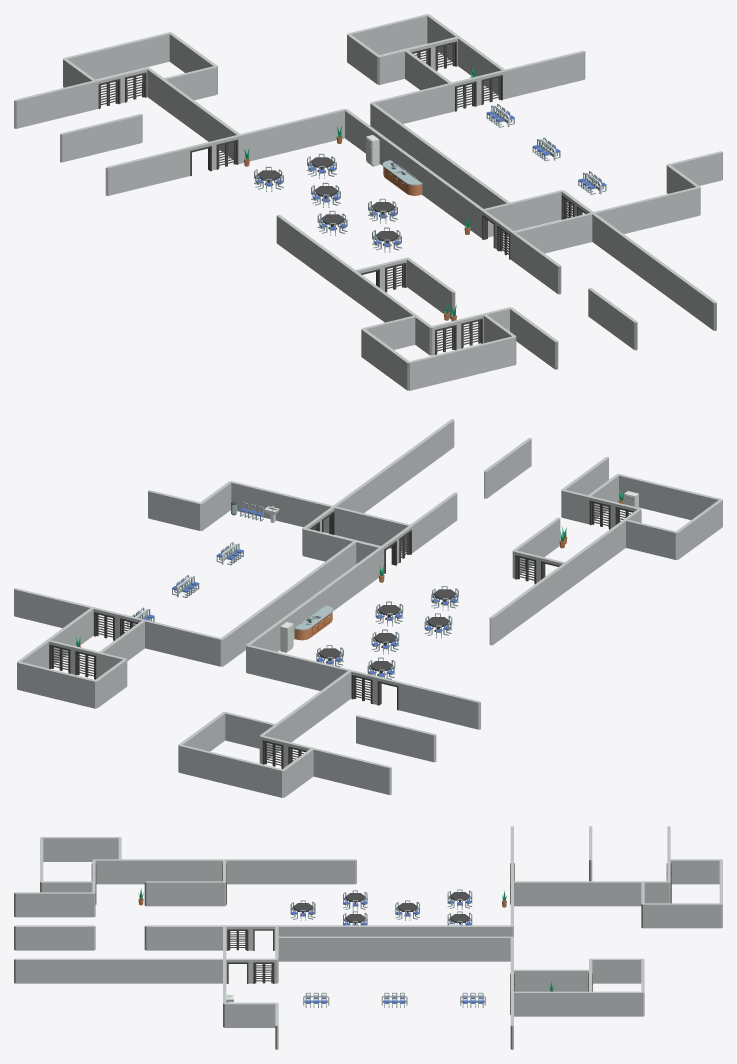
The model's file is prison.obj.
3 views of the same model, one above another, from view 1: azimuth 30°, elevation 25°; view 2: azimuth 150°, elevation 25°; view 3: azimuth 270°, elevation 25° (orthographic). The views are drawn at different scales.
Visible parts, largest first — view 1: mergedBlocks; view 2: mergedBlocks; view 3: mergedBlocks.
Part boxes in pixels (x1,y1,x2,y2): mergedBlocks: [14, 14, 722, 390]; mergedBlocks: [14, 419, 722, 797]; mergedBlocks: [14, 826, 722, 1049].
Size of the model in its own units: 18.12 by 1.04 by 27.13.
